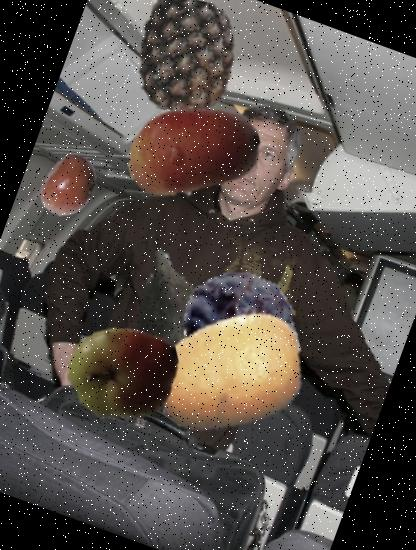Apple: (51, 301, 196, 446)
Beetroot: (82, 226, 258, 402)
Cherry: (26, 144, 110, 226)
Dates: (167, 254, 314, 402)
Kumquats: (134, 278, 326, 470)
Nectarine: (107, 64, 280, 238)
Pineapple: (112, 0, 258, 129)
